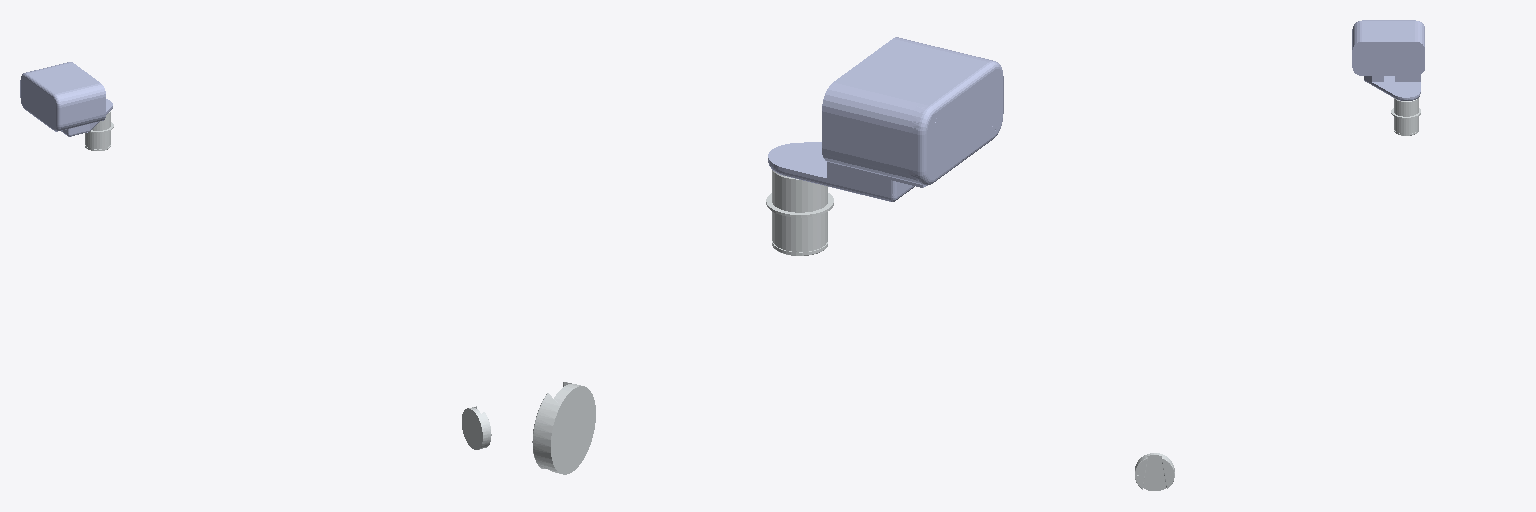
URDF robot description (stretch_description_SE3_DW3.SLDASM):
<?xml version="1.0" encoding="utf-8"?>
<!-- This URDF was automatically created by SolidWorks to URDF Exporter! Originally created by [author] ([email redacted]) 
     Commit Version: 1.5.1-0-g916b5db  Build Version: 1.5.7152.31018
     For more information, please see http://wiki.ros.org/sw_urdf_exporter -->
<robot
  name="stretch_description_SE3_DW3.SLDASM">
  <link
    name="link_wrist_yaw">
    <inertial>
      <origin
        xyz="2.20130857986334E-11 2.93171678765192E-05 -0.0189665926447277"
        rpy="0 0 0" />
      <mass
        value="0.0404746907425004" />
      <inertia
        ixx="6.57801136682346E-06"
        ixy="7.84074128131277E-16"
        ixz="-1.98867435458377E-14"
        iyy="6.58204899910504E-06"
        iyz="-5.83819552651482E-09"
        izz="3.85021258520436E-06" />
    </inertial>
    <visual>
      <origin
        xyz="0 0 0"
        rpy="0 0 0" />
      <geometry>
        <mesh
          filename="package://stretch_description_SE3_DW3.SLDASM/meshes/link_wrist_yaw.STL" />
      </geometry>
      <material
        name="">
        <color
          rgba="0.898039215686275 0.917647058823529 0.929411764705882 1" />
      </material>
    </visual>
    <collision>
      <origin
        xyz="0 0 0"
        rpy="0 0 0" />
      <geometry>
        <mesh
          filename="package://stretch_description_SE3_DW3.SLDASM/meshes/link_wrist_yaw.STL" />
      </geometry>
    </collision>
  </link>
  <link
    name="link_wrist_yaw_bottom">
    <inertial>
      <origin
        xyz="0.0165399153795965 0.0446328107020905 -0.0281087384763347"
        rpy="0 0 0" />
      <mass
        value="0.144548635554334" />
      <inertia
        ixx="4.56525957614798E-05"
        ixy="-1.08217417869179E-06"
        ixz="1.44384040302049E-08"
        iyy="7.22875259104698E-05"
        iyz="-3.40820143538192E-09"
        izz="8.76544308203217E-05" />
    </inertial>
    <visual>
      <origin
        xyz="0 0 0"
        rpy="0 0 0" />
      <geometry>
        <mesh
          filename="package://stretch_description_SE3_DW3.SLDASM/meshes/link_wrist_yaw_bottom.STL" />
      </geometry>
      <material
        name="">
        <color
          rgba="0.792156862745098 0.819607843137255 0.933333333333333 1" />
      </material>
    </visual>
    <collision>
      <origin
        xyz="0 0 0"
        rpy="0 0 0" />
      <geometry>
        <mesh
          filename="package://stretch_description_SE3_DW3.SLDASM/meshes/link_wrist_yaw_bottom.STL" />
      </geometry>
    </collision>
  </link>
  <joint
    name="joint_wrist_yaw_bottom"
    type="fixed">
    <origin
      xyz="0 0 0"
      rpy="3.14159265358979 0 1.5707963267949" />
    <parent
      link="link_wrist_yaw" />
    <child
      link="link_wrist_yaw_bottom" />
    <axis
      xyz="0 0 0" />
  </joint>
  <link
    name="link_wrist_pitch">
    <inertial>
      <origin
        xyz="-0.000711479645697954 -0.0147442681465562 0.0195140764319514"
        rpy="0 0 0" />
      <mass
        value="0.116590512374845" />
      <inertia
        ixx="5.76204624498191E-05"
        ixy="-7.78647509857216E-07"
        ixz="-2.86646997376633E-08"
        iyy="3.5844353951621E-05"
        iyz="1.06445058968725E-06"
        izz="6.36355321976534E-05" />
    </inertial>
    <visual>
      <origin
        xyz="0 0 0"
        rpy="0 0 0" />
      <geometry>
        <mesh
          filename="package://stretch_description_SE3_DW3.SLDASM/meshes/link_wrist_pitch.STL" />
      </geometry>
      <material
        name="">
        <color
          rgba="1 1 1 1" />
      </material>
    </visual>
    <collision>
      <origin
        xyz="0 0 0"
        rpy="0 0 0" />
      <geometry>
        <mesh
          filename="package://stretch_description_SE3_DW3.SLDASM/meshes/link_wrist_pitch.STL" />
      </geometry>
    </collision>
  </link>
  <joint
    name="joint_wrist_pitch"
    type="revolute">
    <origin
      xyz="0 0.0194549999999678 -0.0304999999999953"
      rpy="1.5707963267949 0 0" />
    <parent
      link="link_wrist_yaw_bottom" />
    <child
      link="link_wrist_pitch" />
    <axis
      xyz="0 0 1" />
    <limit
      lower="0"
      upper="0"
      effort="0"
      velocity="0" />
  </joint>
  <link
    name="link_wrist_roll">
    <inertial>
      <origin
        xyz="0.000282866582415386 0.000557472767112266 0.0196635450480892"
        rpy="0 0 0" />
      <mass
        value="0.0221916689638078" />
      <inertia
        ixx="2.20608319376175E-06"
        ixy="3.01742816614342E-09"
        ixz="-1.83537060988685E-08"
        iyy="2.91436292743443E-06"
        iyz="-4.5509705441618E-08"
        izz="4.83731409646016E-06" />
    </inertial>
    <visual>
      <origin
        xyz="0 0 0"
        rpy="0 0 0" />
      <geometry>
        <mesh
          filename="package://stretch_description_SE3_DW3.SLDASM/meshes/link_wrist_roll.STL" />
      </geometry>
      <material
        name="">
        <color
          rgba="0.898039215686275 0.917647058823529 0.929411764705882 1" />
      </material>
    </visual>
    <collision>
      <origin
        xyz="0 0 0"
        rpy="0 0 0" />
      <geometry>
        <mesh
          filename="package://stretch_description_SE3_DW3.SLDASM/meshes/link_wrist_roll.STL" />
      </geometry>
    </collision>
  </link>
  <joint
    name="joint_wrist_roll"
    type="revolute">
    <origin
      xyz="-0.0188587444077927 -0.0240000000000002 0.0195500000000002"
      rpy="3.14159265358979 1.5707963267949 0" />
    <parent
      link="link_wrist_pitch" />
    <child
      link="link_wrist_roll" />
    <axis
      xyz="0 0 -1" />
    <limit
      lower="0"
      upper="0"
      effort="0"
      velocity="0" />
  </joint>
</robot>

--- What the picture shows (computed from the rendered views, not written in the file) ---
Views: 3 orthographic renders of the robot side by side, from view 1: azimuth 30°, elevation 25°; view 2: azimuth 150°, elevation 25°; view 3: azimuth 270°, elevation 25°.
Model stretch_description_SE3_DW3.SLDASM with 4 links and 3 joints (2 revolute, 1 fixed), rooted at link_wrist_yaw, posed all joints at 0.
Links seen in each view (by area): view 1: link_wrist_yaw_bottom, link_wrist_roll, link_wrist_yaw; view 2: link_wrist_yaw_bottom, link_wrist_roll, link_wrist_yaw; view 3: link_wrist_yaw_bottom, link_wrist_roll, link_wrist_yaw.
Boxes of the visible links, left/top/right/bottom form: link_wrist_yaw_bottom: left=20, top=62, right=112, bottom=136; link_wrist_roll: left=462, top=406, right=491, bottom=449; link_wrist_yaw: left=85, top=111, right=113, bottom=150; link_wrist_yaw_bottom: left=768, top=37, right=1003, bottom=201; link_wrist_roll: left=532, top=382, right=595, bottom=474; link_wrist_yaw: left=766, top=170, right=833, bottom=255; link_wrist_yaw_bottom: left=1352, top=20, right=1424, bottom=100; link_wrist_roll: left=1135, top=453, right=1174, bottom=490; link_wrist_yaw: left=1391, top=98, right=1420, bottom=135.
Size in the robot's own frame: 0.3433 by 0.2889 by 0.3596 metres.
3 mesh visuals loaded from 4 distinct referenced files (3 binary STL); not drawn: 1 (reference not matched to a file when rendering).